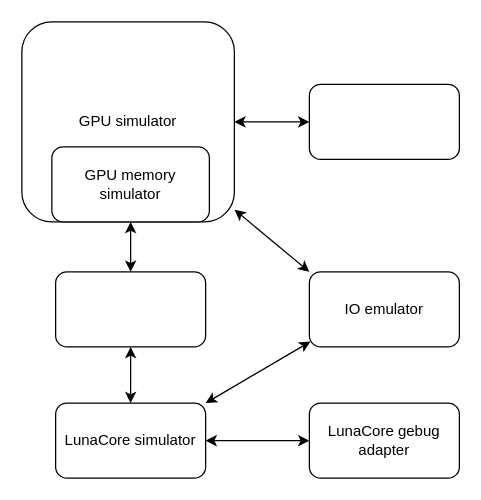
This 481x500 diagram has some shape labels left out. The shapes that lost their labels are listed below. From the top down, each one's centre as x and y in pixels, then its label:
At point 383,121: "GPU debug adapter".
At point 130,309: "Adapter layer".
